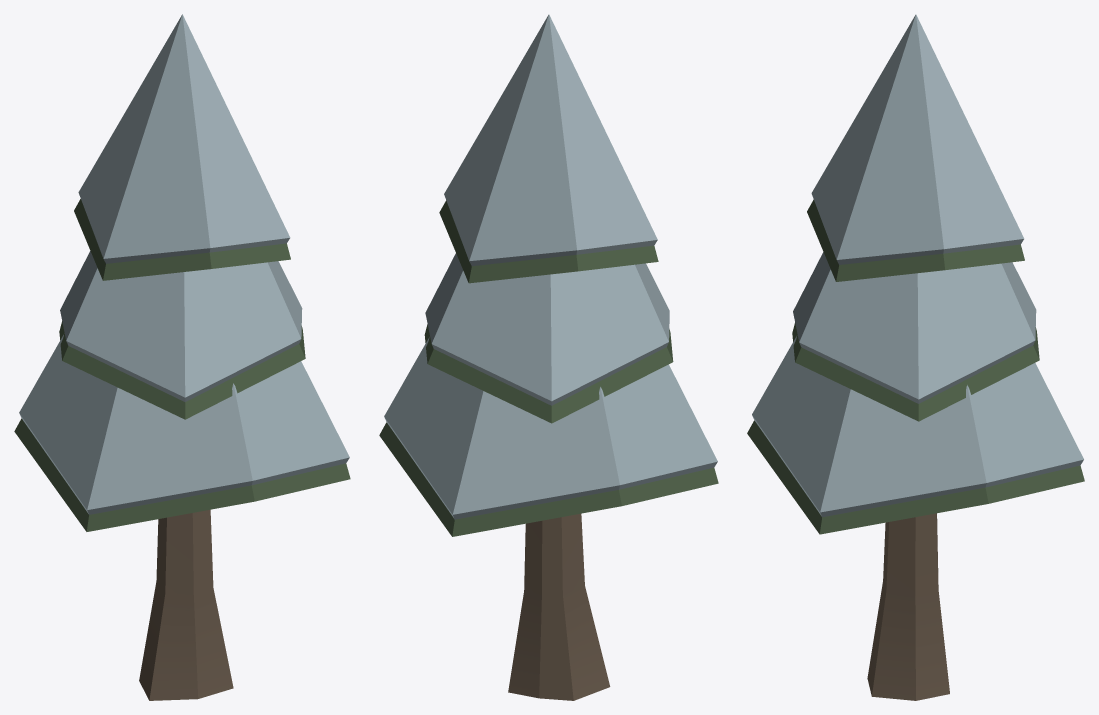
The model's file is Geo_PineMedium.fbx.
3 views of the same model, side by side, from view 1: azimuth 30°, elevation 25°; view 2: azimuth 150°, elevation 25°; view 3: azimuth 270°, elevation 25° (orthographic).
Visible parts, largest first — view 1: PineTreeMedium_Mesh; view 2: PineTreeMedium_Mesh; view 3: PineTreeMedium_Mesh.
Boxes of the visible parts, bbox=[...] form: PineTreeMedium_Mesh: bbox=[14, 14, 350, 700]; PineTreeMedium_Mesh: bbox=[379, 14, 718, 700]; PineTreeMedium_Mesh: bbox=[747, 14, 1084, 700].
Size of the model in its own units: 271 by 653 by 299.
